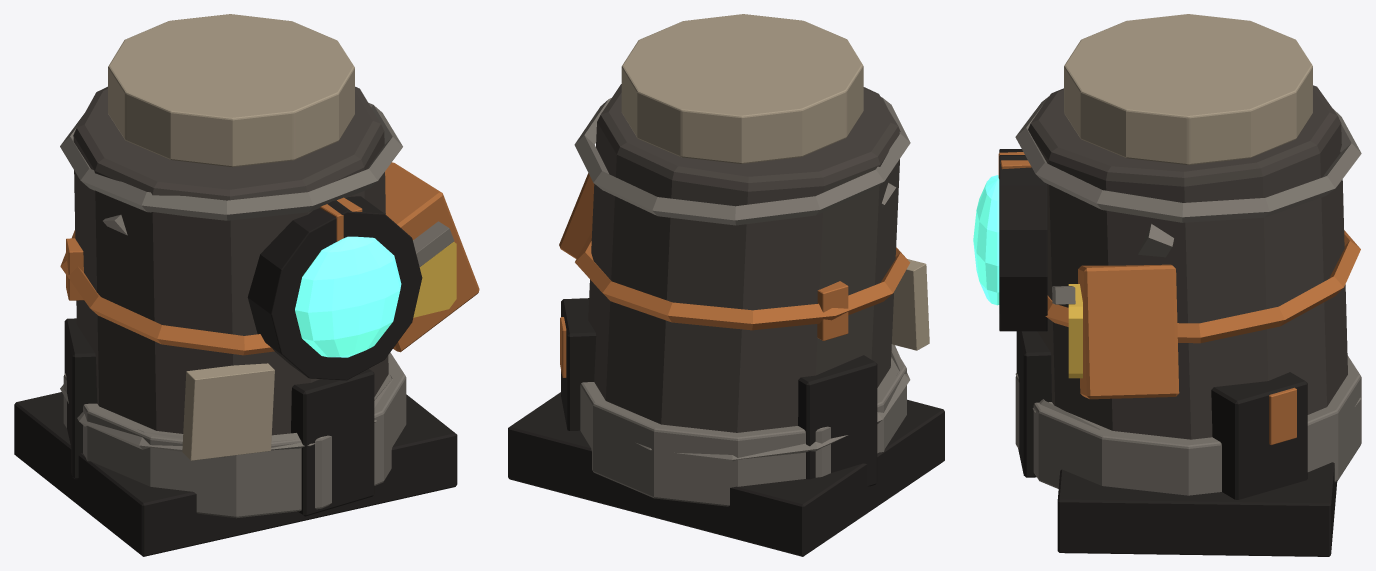
Rendered from objective_core__damaged.glb.
3 views of the same model, side by side, from view 1: azimuth 30°, elevation 25°; view 2: azimuth 150°, elevation 25°; view 3: azimuth 270°, elevation 25° (orthographic). The views are drawn at different scales.
Parts seen in each view (by area): view 1: ROLE_primary, ROLE_rubber, ROLE_secondary, ROLE_bareMetal, ROLE_accent, ROLE_interaction, ROLE_warning; view 2: ROLE_primary, ROLE_rubber, ROLE_secondary, ROLE_bareMetal, ROLE_accent; view 3: ROLE_primary, ROLE_rubber, ROLE_secondary, ROLE_bareMetal, ROLE_accent, ROLE_interaction, ROLE_warning.
Part boxes in pixels (<box>): ROLE_primary: <box>73,86,388,435</box>; ROLE_rubber: <box>14,196,457,556</box>; ROLE_secondary: <box>108,14,354,460</box>; ROLE_bareMetal: <box>60,103,454,518</box>; ROLE_accent: <box>60,162,479,355</box>; ROLE_interaction: <box>295,236,401,357</box>; ROLE_warning: <box>413,242,456,317</box>; ROLE_primary: <box>588,84,900,432</box>; ROLE_rubber: <box>508,298,944,556</box>; ROLE_secondary: <box>621,14,929,350</box>; ROLE_bareMetal: <box>574,97,910,506</box>; ROLE_accent: <box>559,173,910,377</box>; ROLE_primary: <box>1028,85,1347,439</box>; ROLE_rubber: <box>999,149,1337,556</box>; ROLE_secondary: <box>1064,14,1312,164</box>; ROLE_bareMetal: <box>1015,96,1361,495</box>; ROLE_accent: <box>998,152,1360,444</box>; ROLE_interaction: <box>973,175,999,305</box>; ROLE_warning: <box>1068,284,1082,378</box>.
Bounding box in the file's own units: 6 × 6.82 × 5.84.
